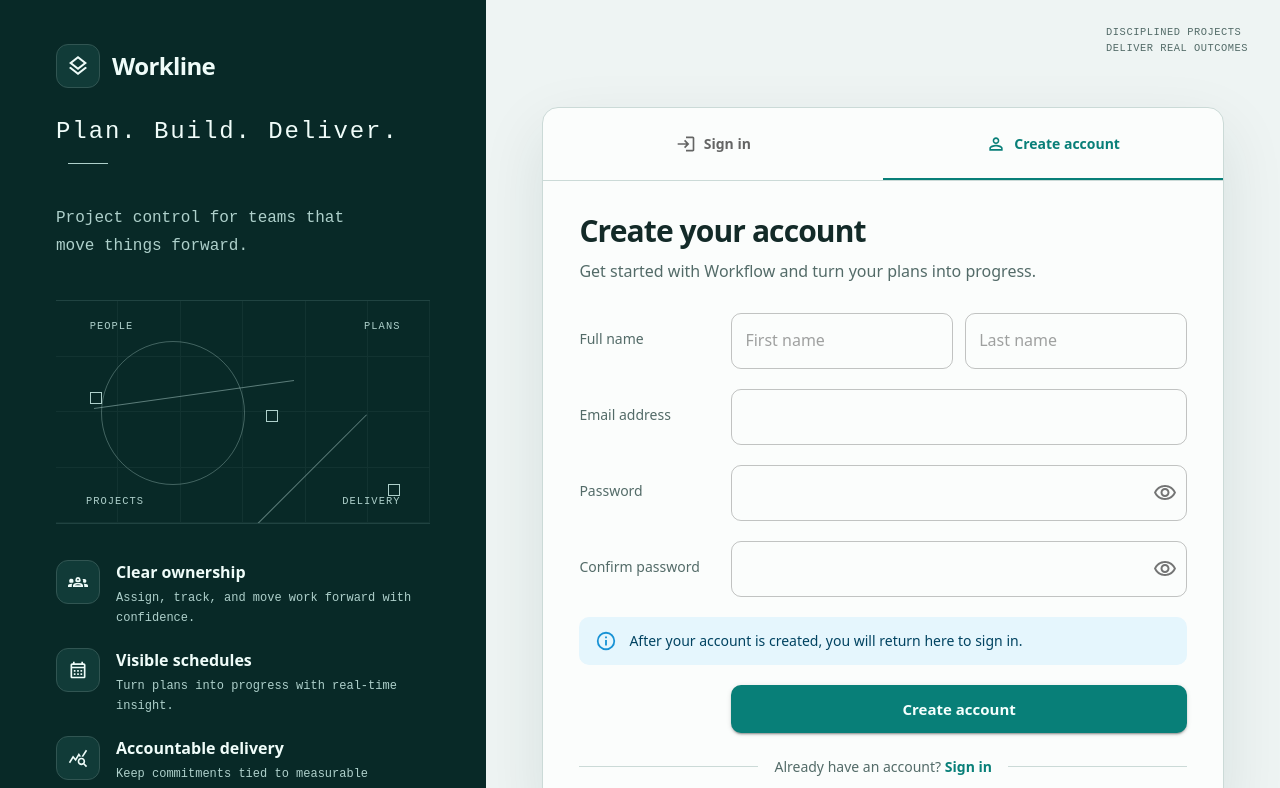
Test: registration flow › shows a recoverable network failure
Type "Taylor" into the field labelled "First name" at x=842, y=341, box x1=731 y1=313 x2=953 y2=369
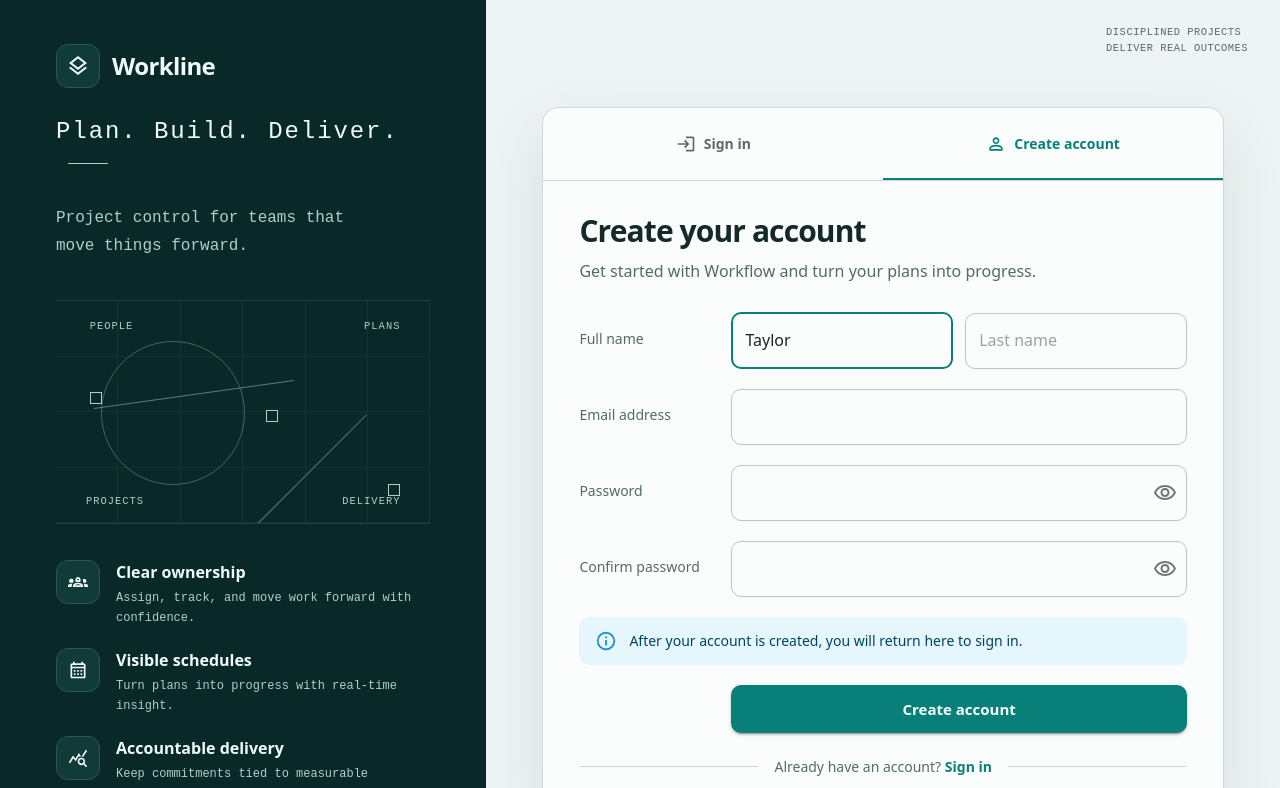
Type "Kim" into the field labelled "Last name" at x=1076, y=341, box x1=965 y1=313 x2=1187 y2=369
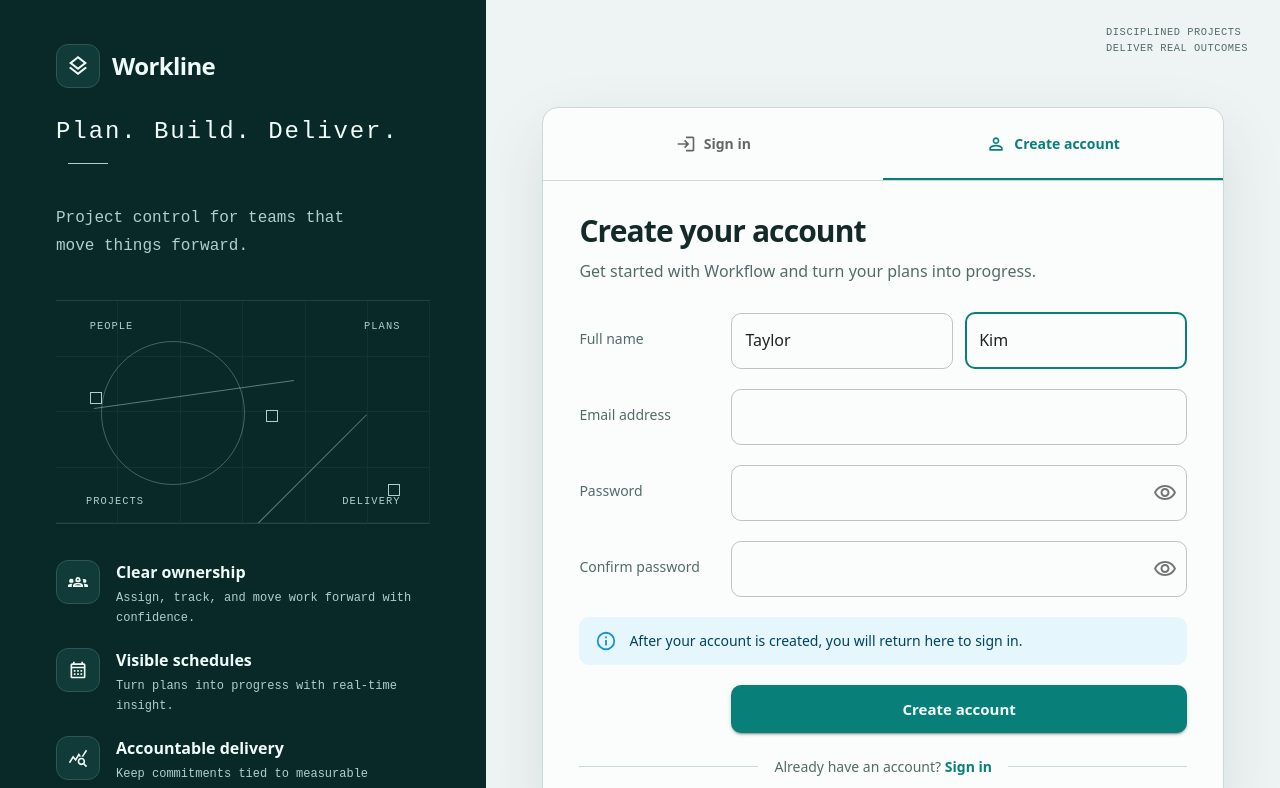
Type "taylor@example.com" into the field labelled "Email address" at x=959, y=417, box x1=731 y1=389 x2=1187 y2=445
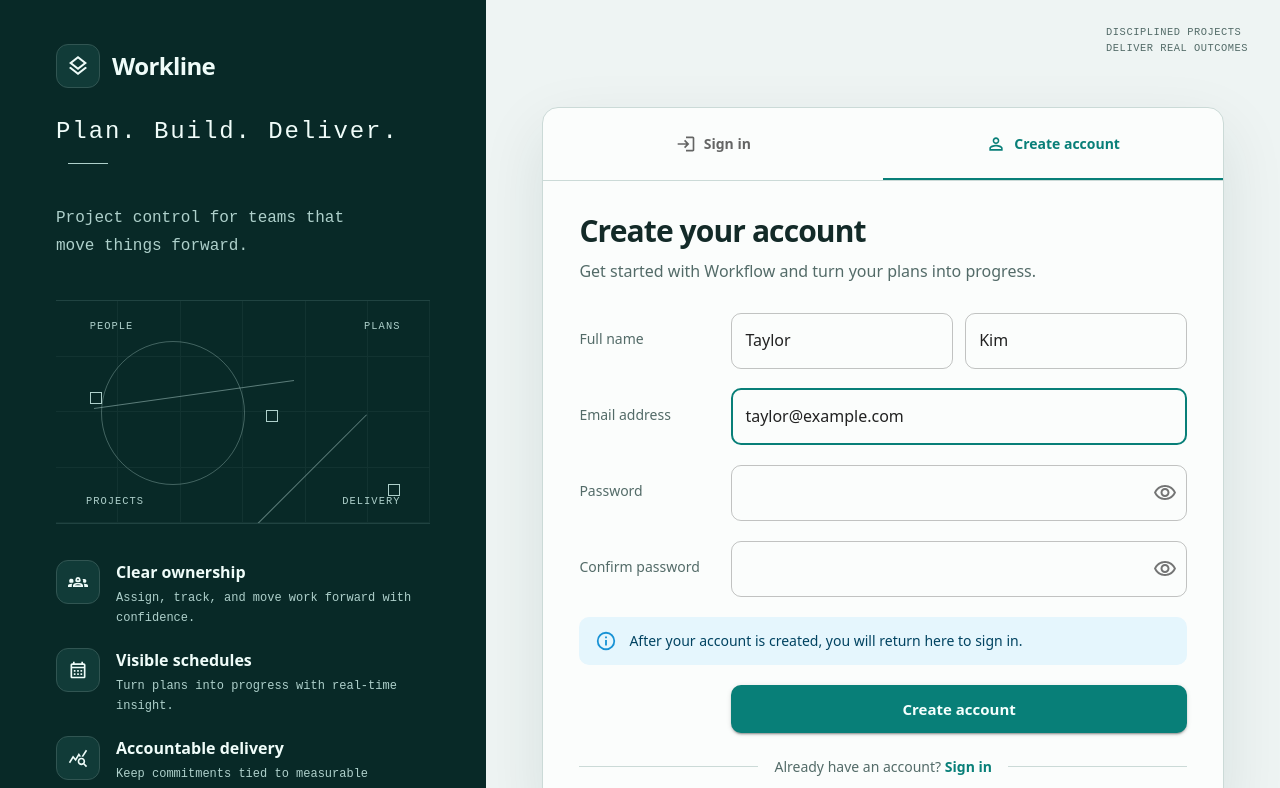
Type "secret1" into the password field labelled "Password" at x=934, y=493, box x1=731 y1=465 x2=1137 y2=521
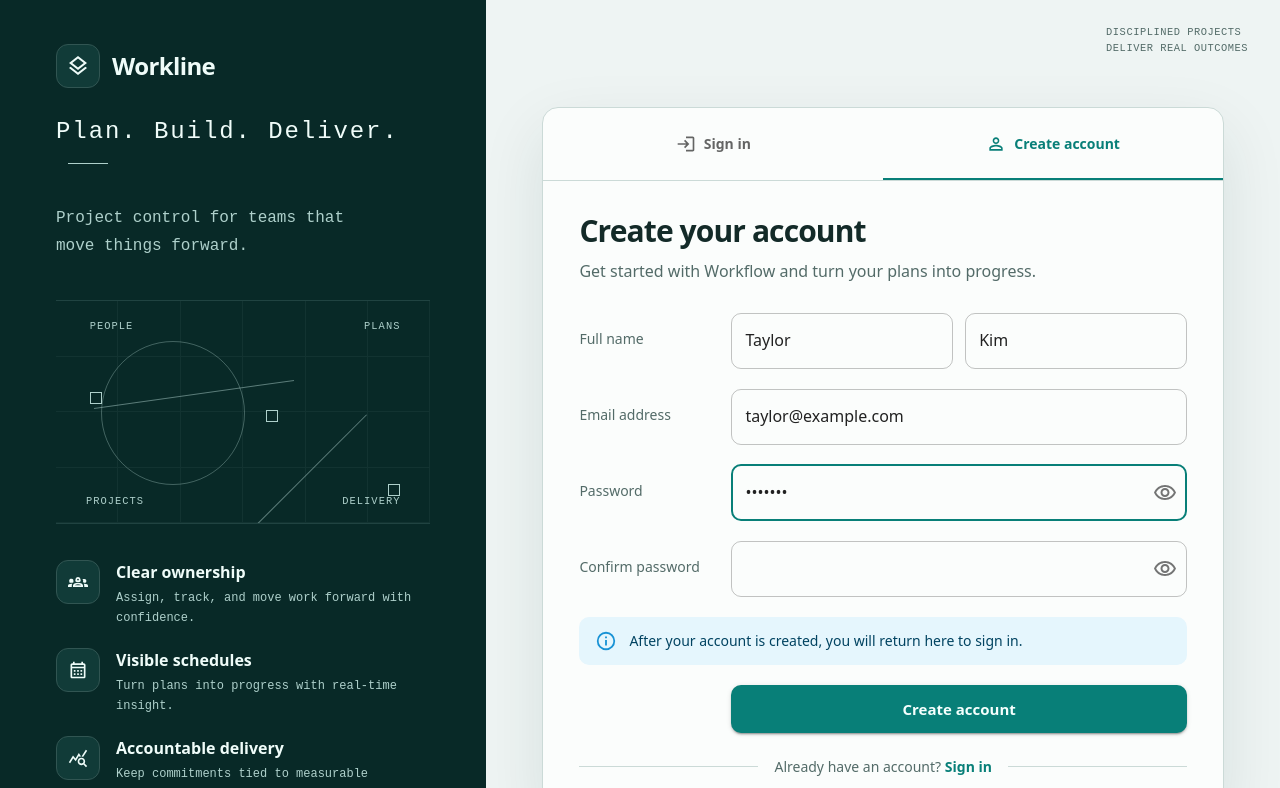
Type "secret1" into the password field labelled "Confirm password" at x=934, y=569, box x1=731 y1=541 x2=1137 y2=597
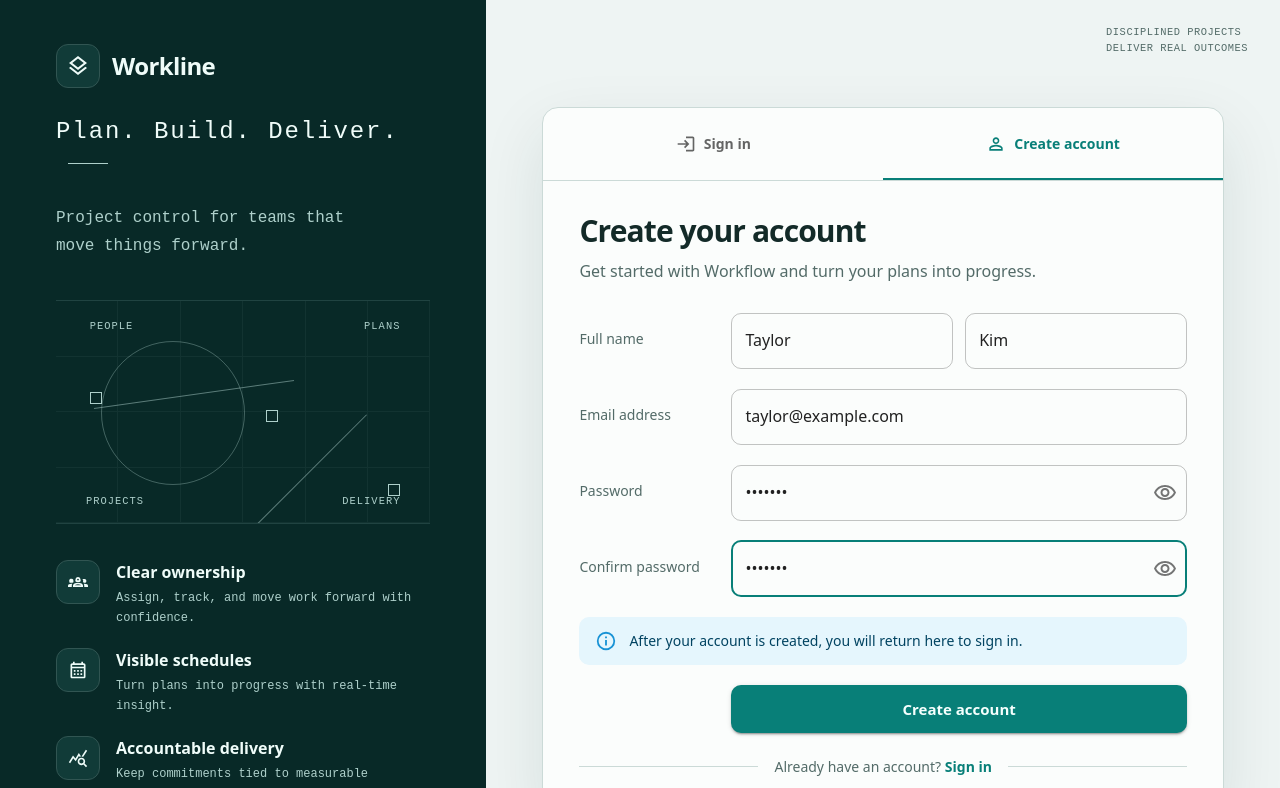
Click the button "Create account" at x=959, y=709, box x1=731 y1=685 x2=1187 y2=733
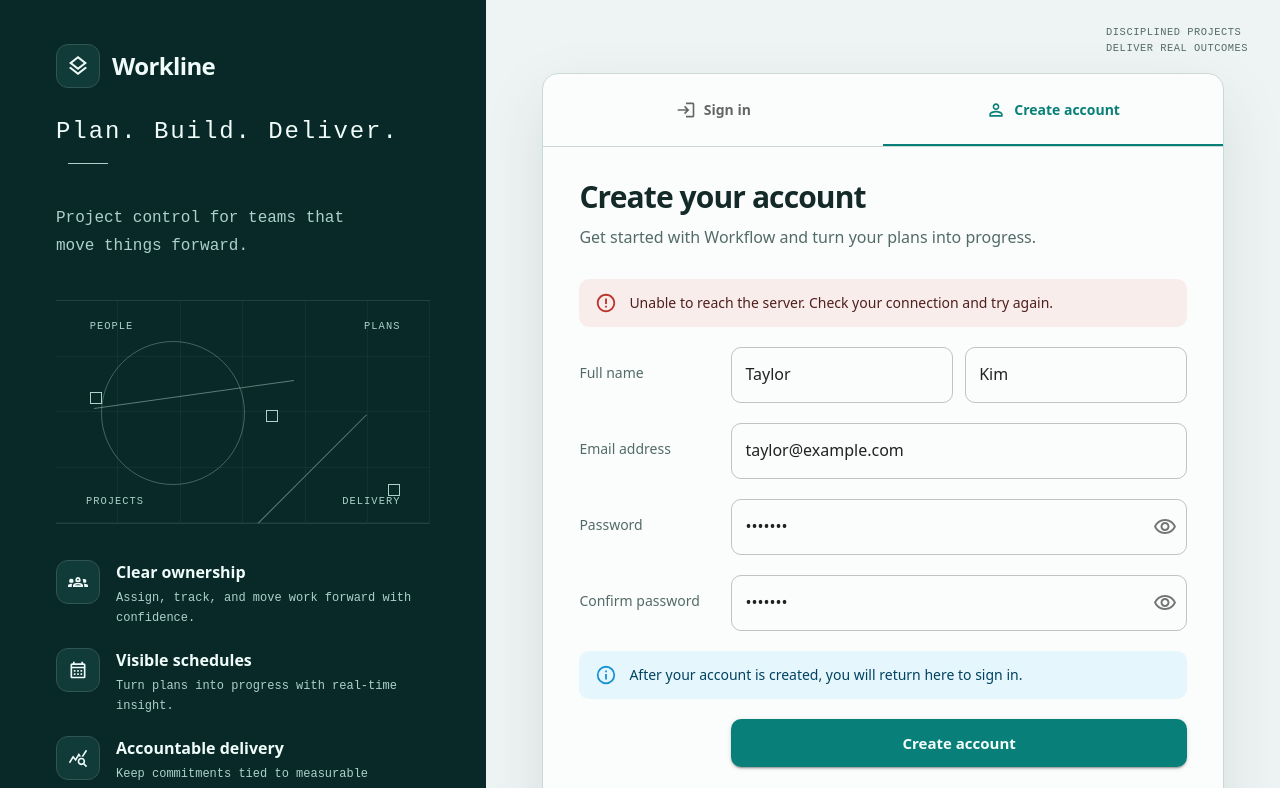
Expected: the text "Unable to reach the server. Check your connection and try again." is shown, x1=629 y1=293 x2=1053 y2=312
